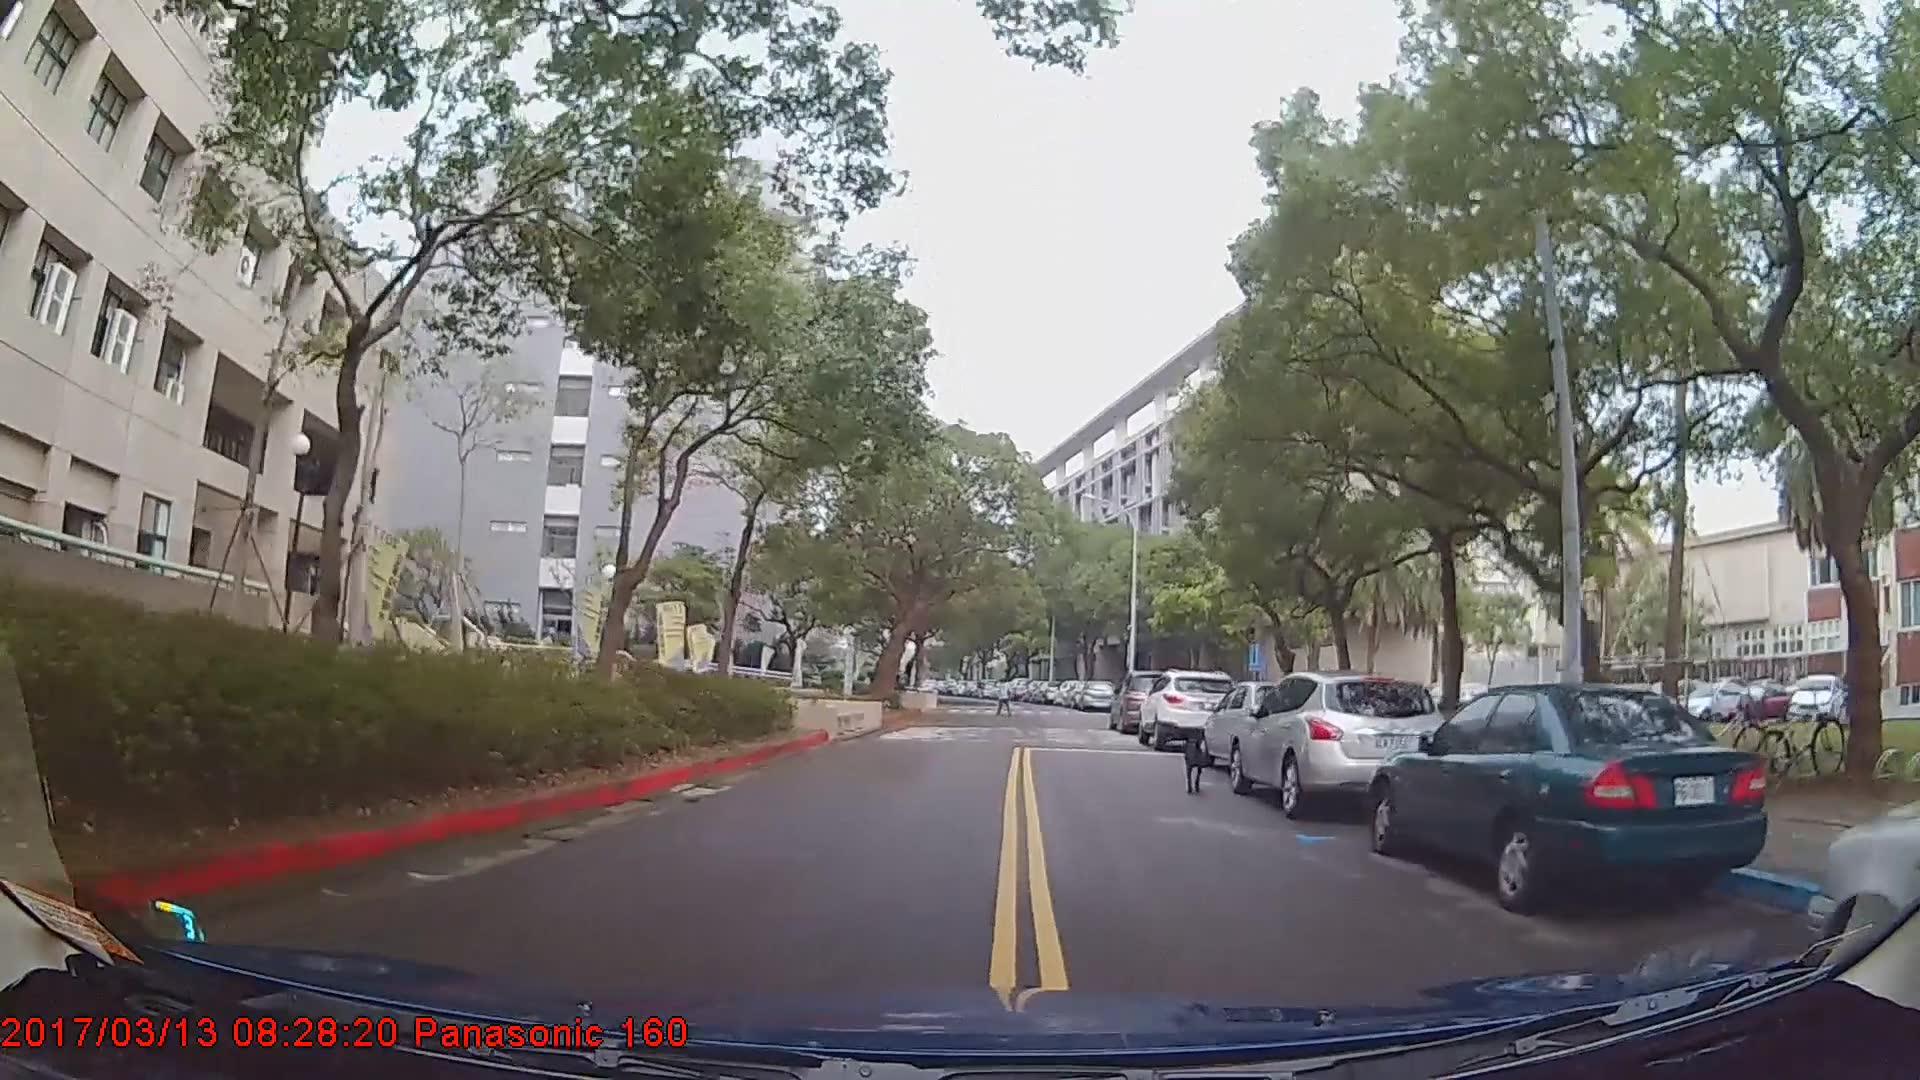pedestrian: (995, 680, 1015, 720)
vehicle: (1368, 683, 1771, 917), (1230, 671, 1448, 820), (1196, 680, 1327, 778), (1139, 668, 1241, 750), (1110, 670, 1187, 735), (1077, 680, 1118, 713)
